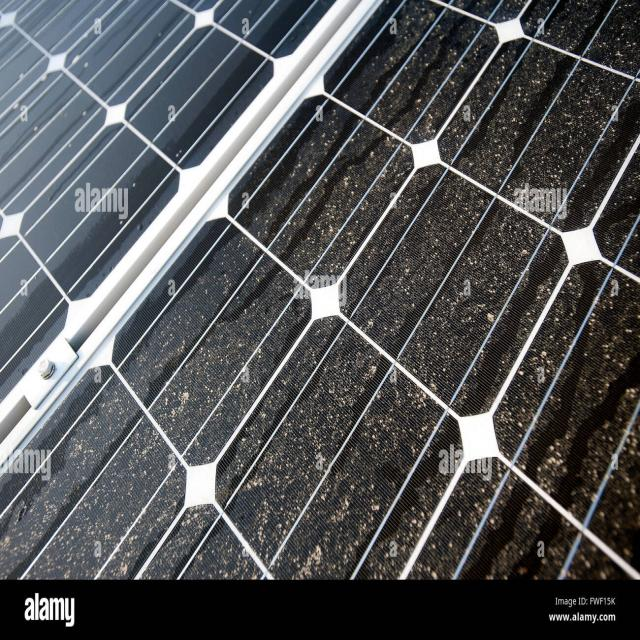faulty: (0, 0, 640, 585)
